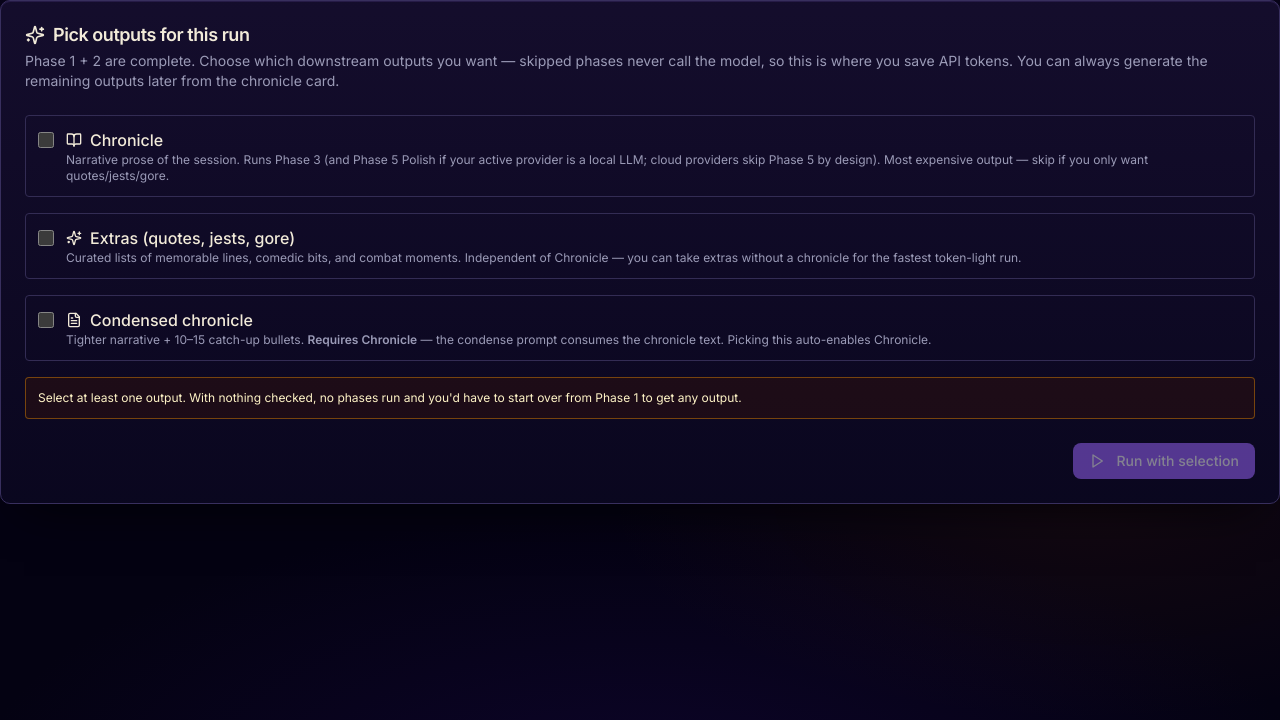
Test: OutputPicker — Condensed ↔ Chronicle dependency › checking Condensed auto-checks Chronicle when it was off
The width and height of the screenshot is (1280, 720).
Expected: the checkbox named "generate chronicle" is not checked, [38, 132, 54, 148]
Click the checkbox named "generate condensed chronicle" at (46, 320), box [38, 312, 54, 328]
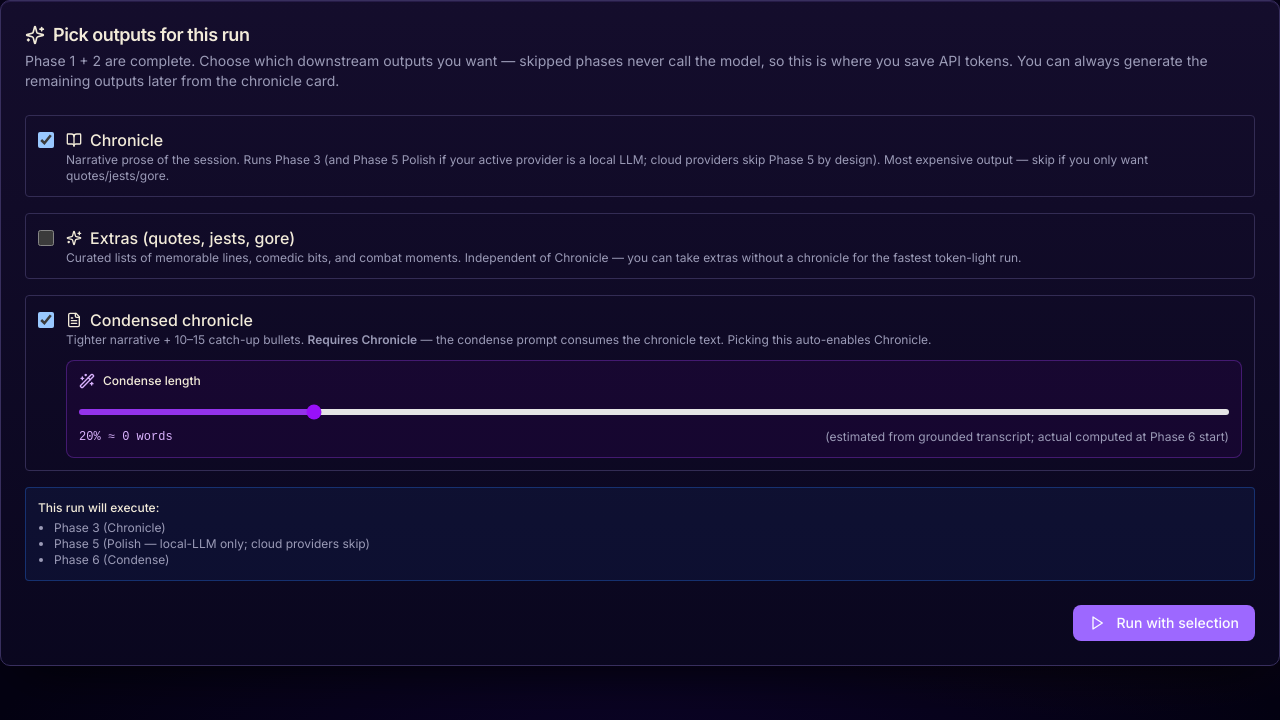
Expected: the checkbox named "generate condensed chronicle" is checked, [38, 312, 54, 328]
Expected: the checkbox named "generate chronicle" is checked, [38, 132, 54, 148]
